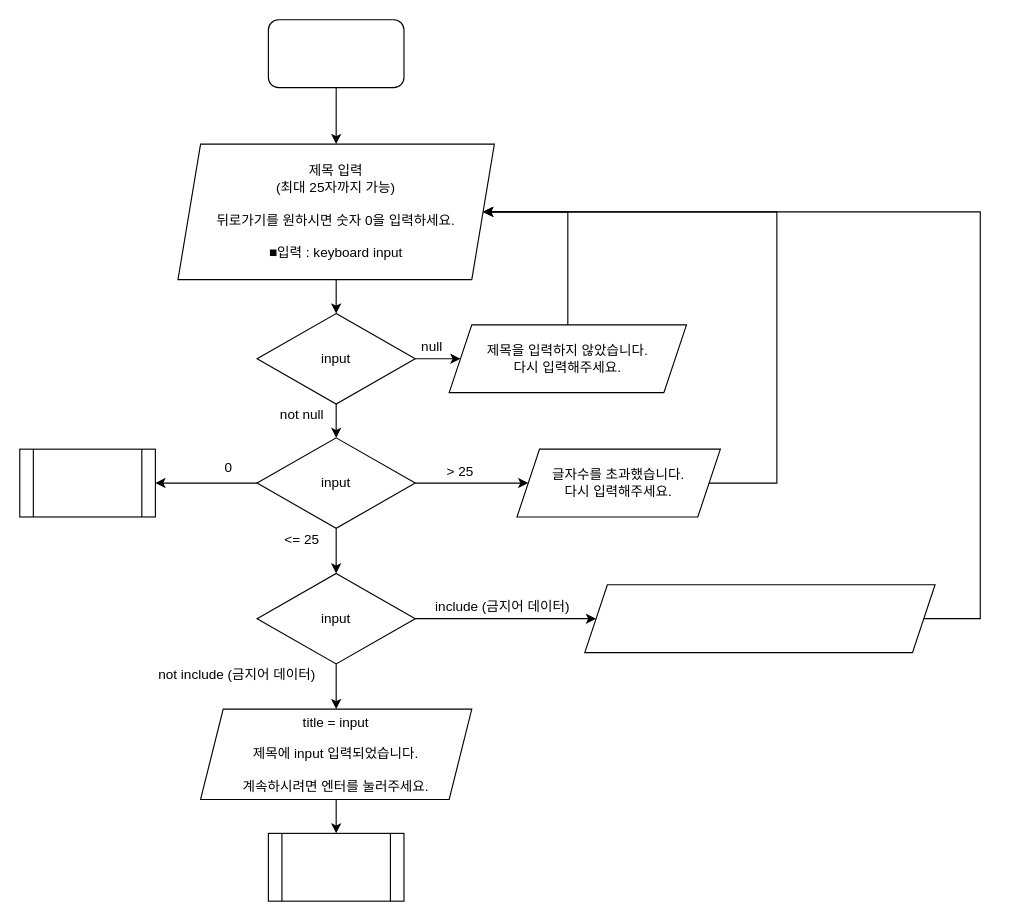
The diagram is 1009 pixels wide and 921 high, and some of its shapes have lost their labels. The box of each missing label's shape, as (x1, y1, x2, y2) in pixels:
상품 설명에 금지어 (금지어데이터) 입력되었습니다. 다시 입력해주세요.: (584, 584, 935, 653)
연관 태그 입력 메서드 이동: (267, 832, 404, 901)
제목 입력 메서드 진입: (267, 19, 404, 88)
카테고리 선택 메서드 이동: (19, 448, 155, 517)
